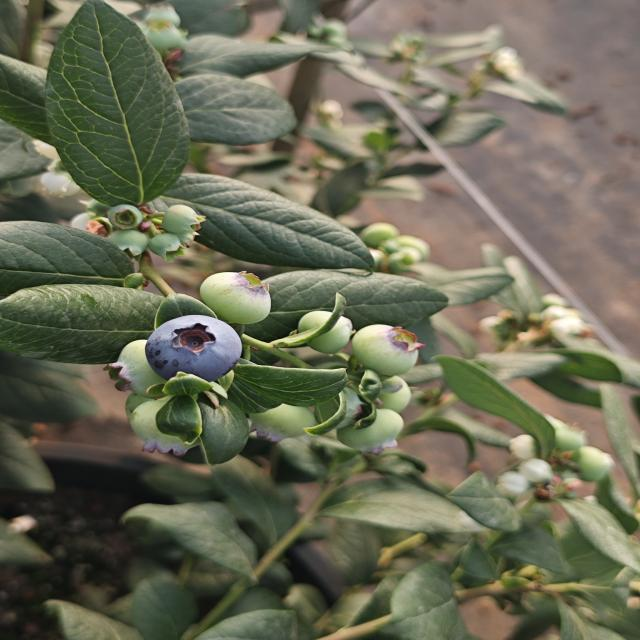ripe: (125, 310, 251, 381)
